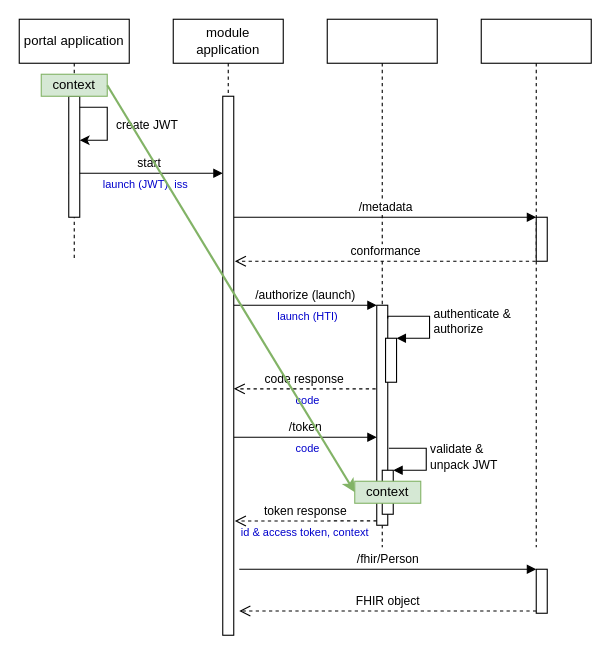
Image size: 611x655. Some labels were removed from this diagram. The box of each missing label's shape, as (x1, y1, x2, y2) in pixels:
authorization service: (326, 18, 437, 547)
FHIR resource service: (480, 18, 591, 547)
